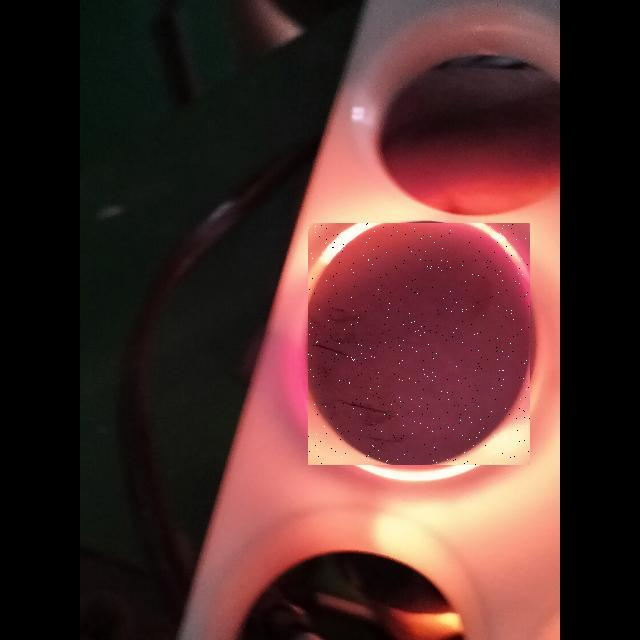Fertile: (308, 223, 530, 465)
